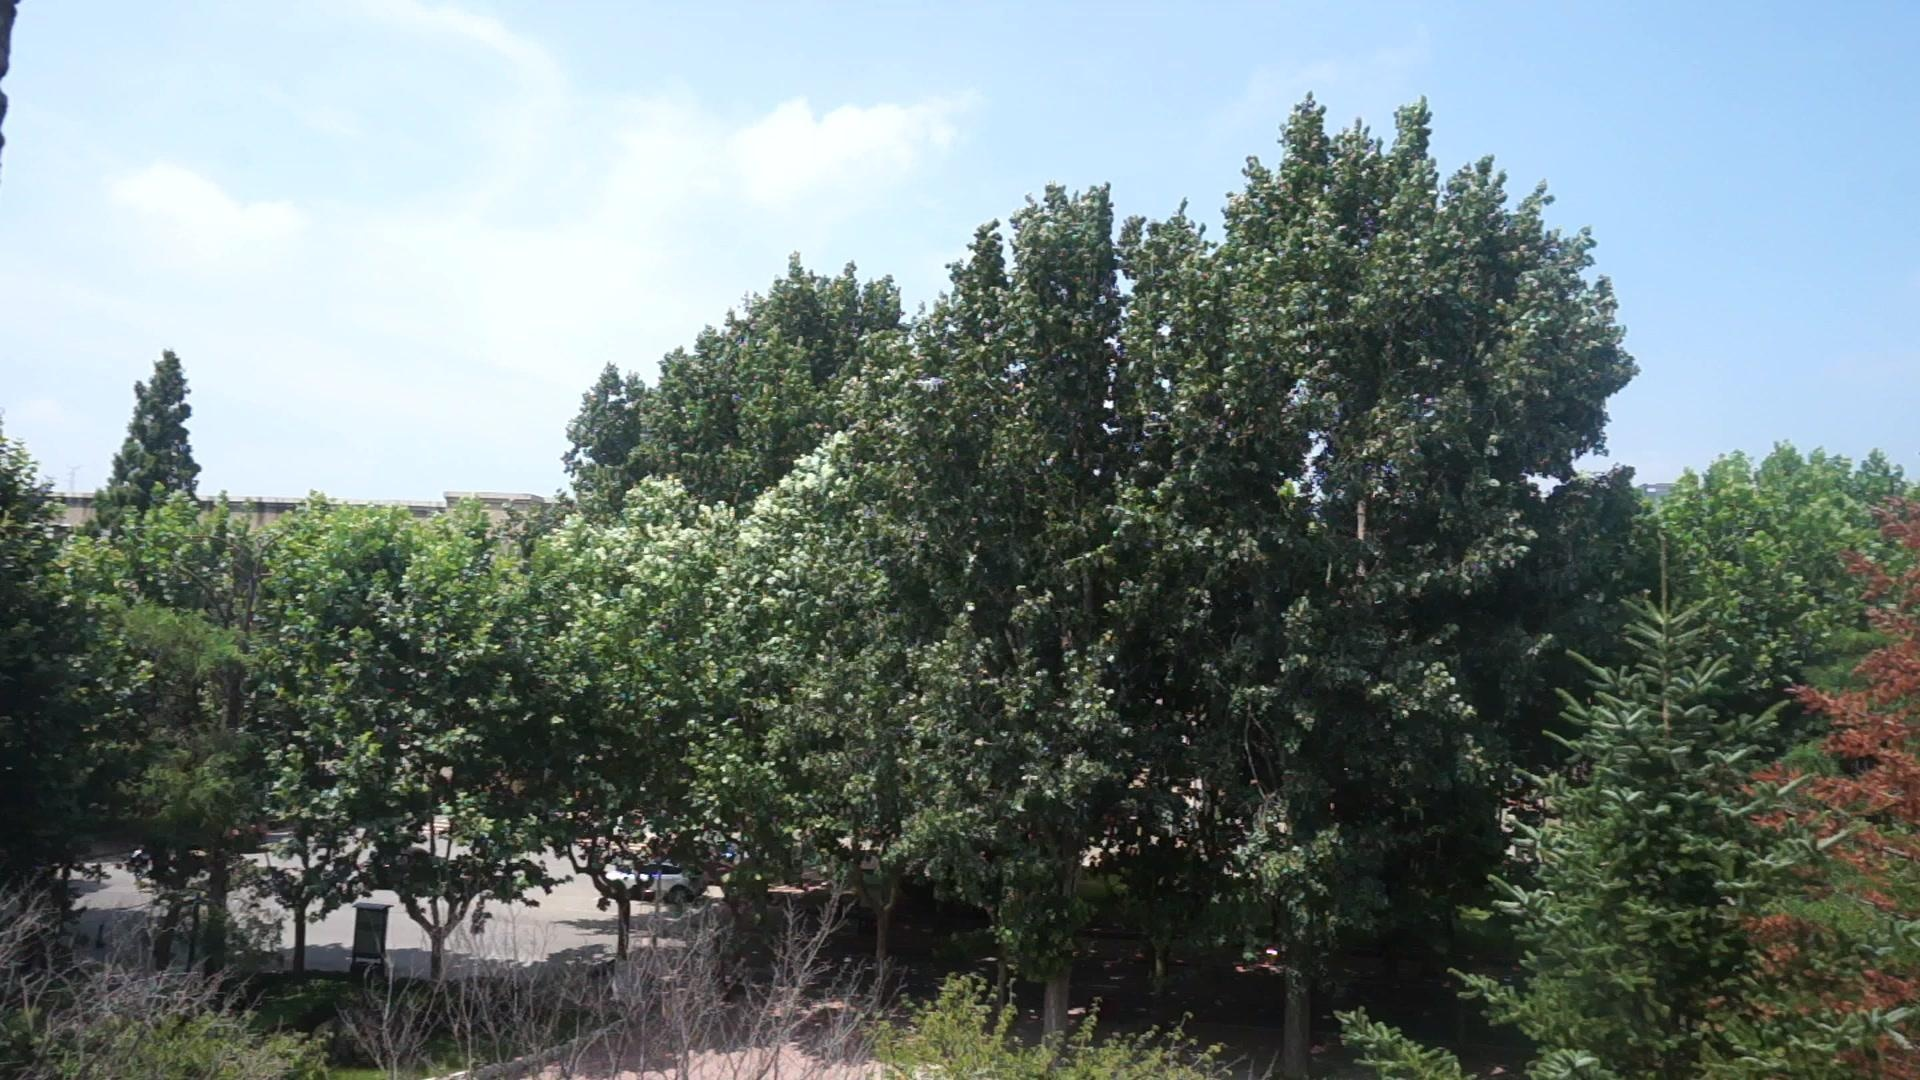UAV: (918, 378, 951, 393)
